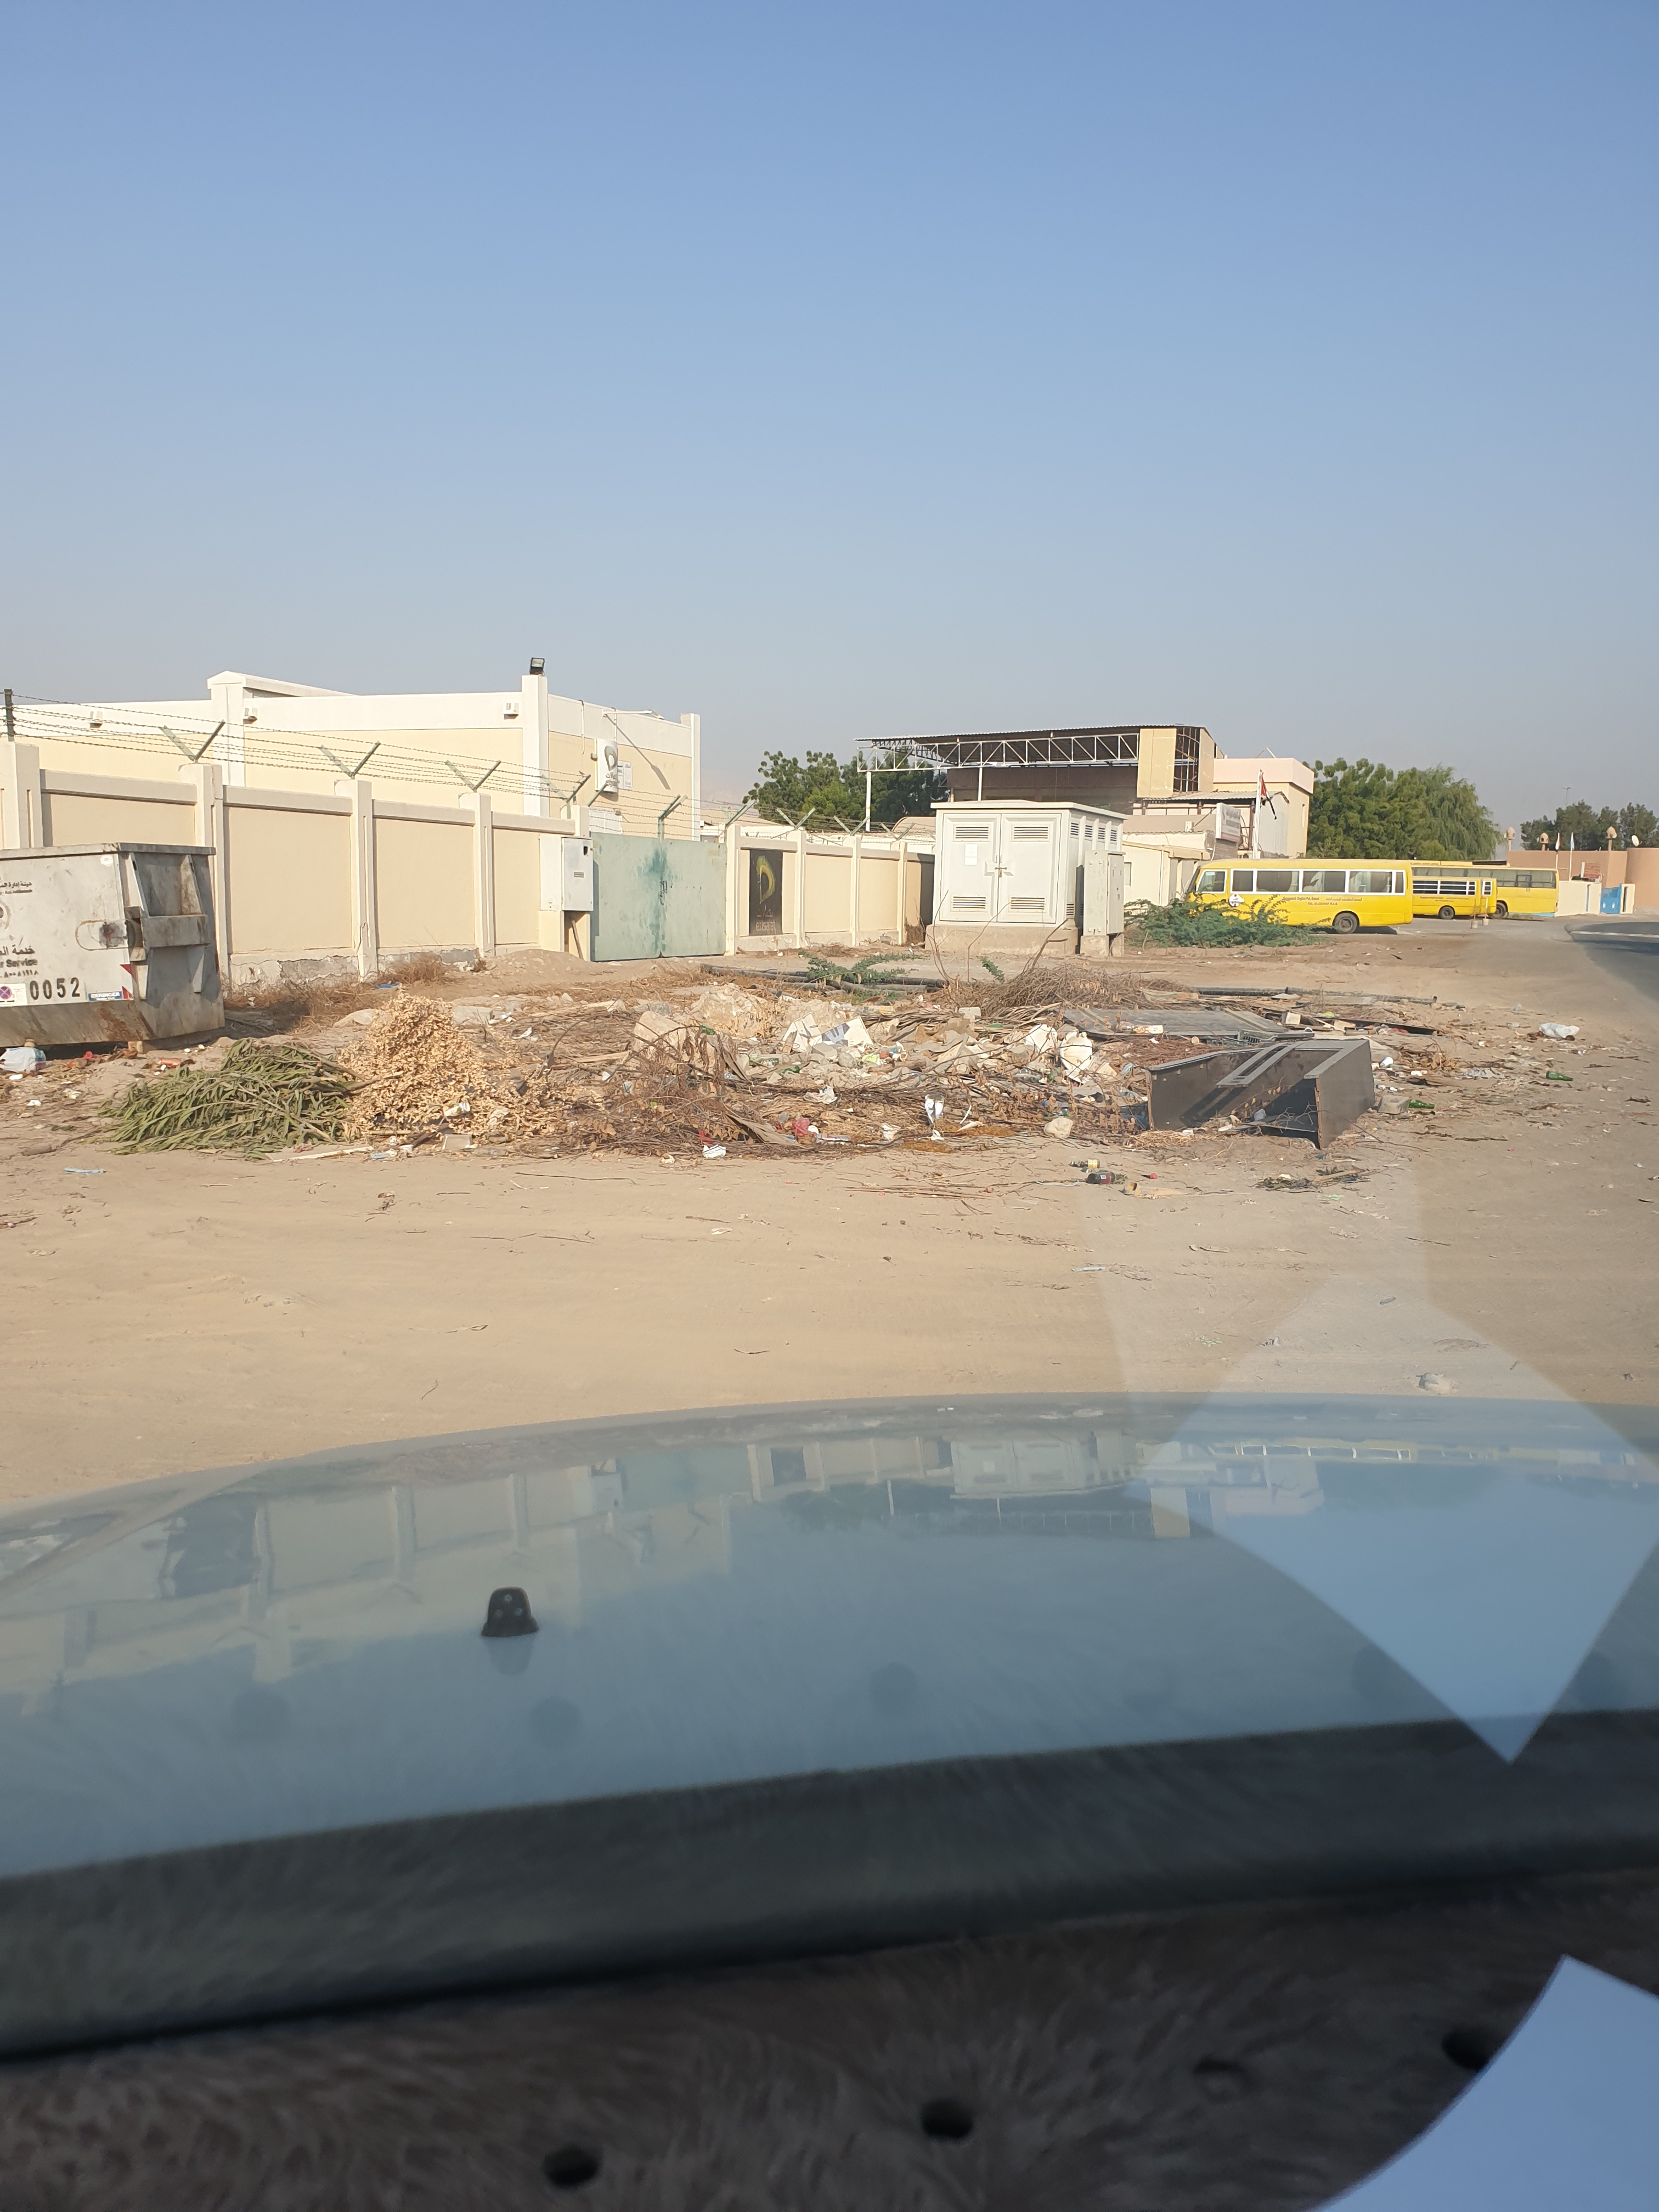fallen_trees: (301, 981, 1046, 1186), (443, 1069, 1002, 1170), (94, 1076, 350, 1169)
uncollected_waste: (1185, 967, 1483, 1174), (1122, 1022, 1422, 1181)
